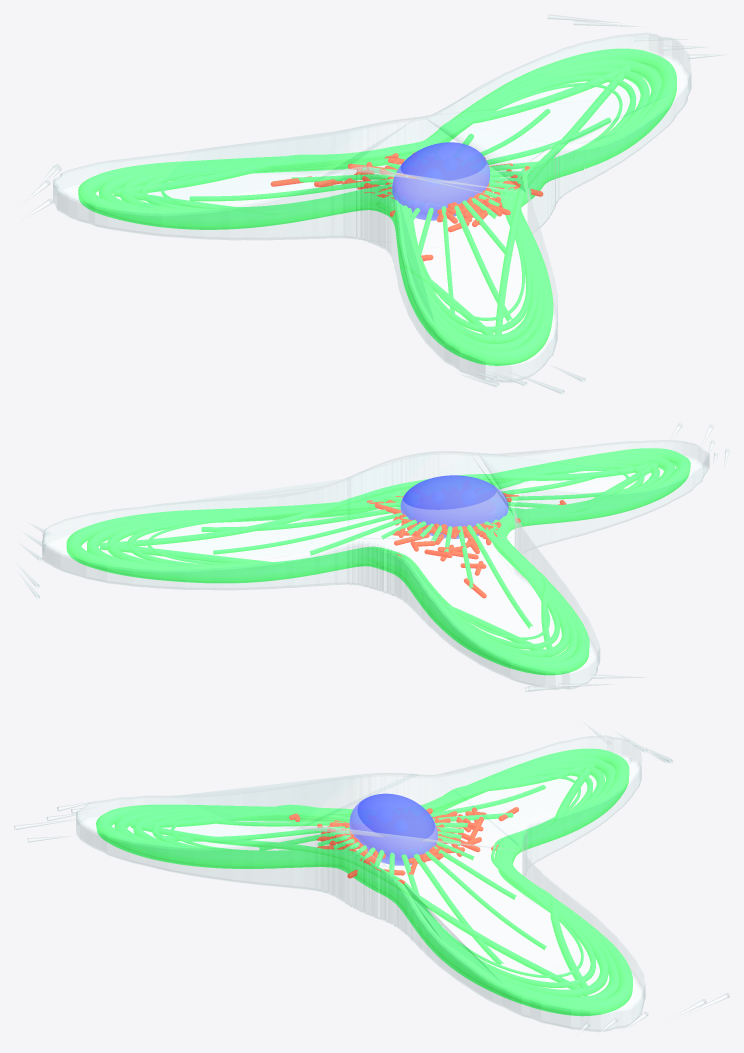
The model's file is dpsc-tripolar-old-cell.glb.
3 views of the same model, one above another, from view 1: azimuth 30°, elevation 25°; view 2: azimuth 150°, elevation 25°; view 3: azimuth 270°, elevation 25° (orthographic). The views are drawn at different scales.
Parts seen in each view (by area): view 1: lamella_membrane, actin_bundle_1, actin_bundle_2, actin_bundle_3, nucleus, actin_bundle_4, actin_bundle_5, actin_bundle_6, actin_bundle_7, actin_bundle_8, actin_bundle_19, actin_bundle_28 (+1 smaller); view 2: lamella_membrane, actin_bundle_1, actin_bundle_2, actin_bundle_3, nucleus, actin_bundle_4, actin_bundle_7, actin_bundle_5, actin_bundle_6, actin_bundle_8, actin_bundle_11, actin_bundle_10 (+3 smaller); view 3: lamella_membrane, actin_bundle_1, actin_bundle_2, actin_bundle_3, nucleus, actin_bundle_4, actin_bundle_7, actin_bundle_5, actin_bundle_8, actin_bundle_6, actin_bundle_11, actin_bundle_10 (+3 smaller).
Boxes of the visible parts, left/top/right/bottom form: lamella_membrane: left=53, top=32, right=691, bottom=382; actin_bundle_1: left=78, top=48, right=676, bottom=365; actin_bundle_2: left=99, top=59, right=661, bottom=350; actin_bundle_3: left=120, top=67, right=649, bottom=343; nucleus: left=392, top=142, right=490, bottom=220; actin_bundle_4: left=140, top=75, right=636, bottom=332; actin_bundle_5: left=161, top=83, right=622, bottom=320; actin_bundle_6: left=115, top=65, right=630, bottom=196; actin_bundle_7: left=495, top=67, right=630, bottom=341; actin_bundle_8: left=113, top=190, right=497, bottom=343; actin_bundle_19: left=189, top=179, right=393, bottom=201; actin_bundle_28: left=454, top=205, right=512, bottom=321; lamella_membrane: left=42, top=440, right=709, bottom=689; actin_bundle_1: left=66, top=448, right=690, bottom=675; actin_bundle_2: left=87, top=454, right=675, bottom=661; actin_bundle_3: left=107, top=459, right=659, bottom=657; nucleus: left=400, top=475, right=508, bottom=538; actin_bundle_4: left=127, top=463, right=644, bottom=649; actin_bundle_7: left=105, top=463, right=654, bottom=546; actin_bundle_5: left=147, top=468, right=628, bottom=639; actin_bundle_6: left=100, top=542, right=551, bottom=656; actin_bundle_8: left=506, top=463, right=658, bottom=654; actin_bundle_11: left=213, top=512, right=402, bottom=554; actin_bundle_10: left=201, top=507, right=400, bottom=531; lamella_membrane: left=76, top=735, right=645, bottom=1031; actin_bundle_1: left=96, top=748, right=632, bottom=1016; actin_bundle_2: left=114, top=756, right=619, bottom=1001; actin_bundle_3: left=133, top=763, right=608, bottom=996; nucleus: left=349, top=793, right=437, bottom=865; actin_bundle_4: left=152, top=769, right=595, bottom=987; actin_bundle_7: left=130, top=821, right=590, bottom=996; actin_bundle_5: left=171, top=775, right=583, bottom=977; actin_bundle_8: left=133, top=763, right=589, bottom=827; actin_bundle_6: left=512, top=762, right=594, bottom=995; actin_bundle_11: left=425, top=851, right=546, bottom=949; actin_bundle_10: left=414, top=853, right=503, bottom=964.
Size of the model in its own units: 0.1544 by 0.017 by 0.1466.
